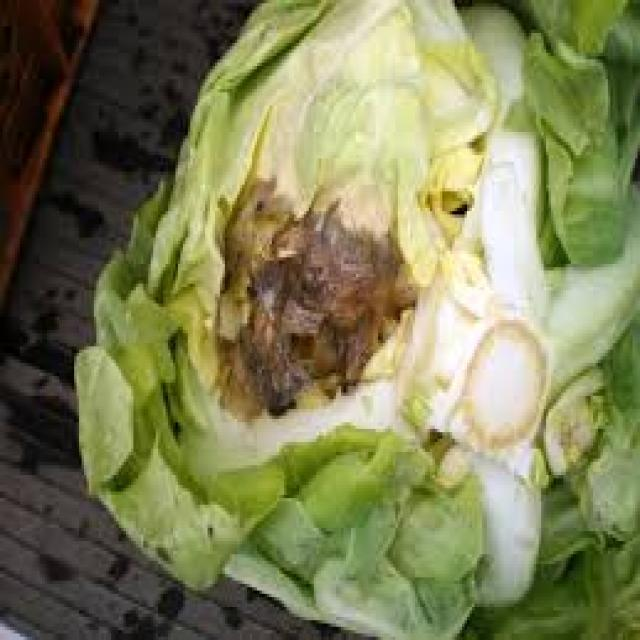organic waste: (69, 0, 638, 637)
